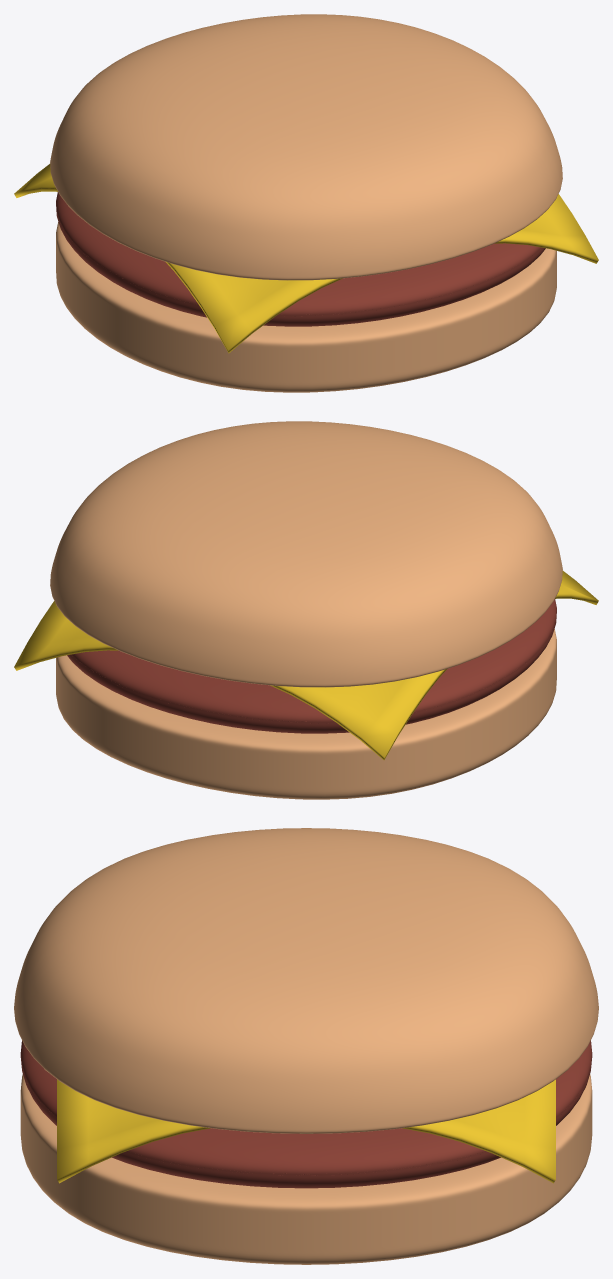
Rendered from hamburger.glb.
3 renders of one model, top to bottom at view 1: azimuth 30°, elevation 25°; view 2: azimuth 150°, elevation 25°; view 3: azimuth 270°, elevation 25°, orthographic. The views are drawn at different scales.
Parts seen in each view (by area): view 1: Cube.003, Cube.001, Cube.002, Plane; view 2: Cube.003, Cube.001, Cube.002, Plane; view 3: Cube.003, Cube.001, Cube.002, Plane.
Part boxes in pixels (x1,y1,x2,y2): Cube.003: (50, 14, 562, 280); Cube.001: (56, 222, 556, 392); Cube.002: (56, 192, 545, 326); Plane: (14, 163, 598, 353); Cube.003: (50, 421, 562, 687); Cube.001: (56, 629, 556, 799); Cube.002: (67, 599, 556, 733); Plane: (14, 570, 598, 760); Cube.003: (14, 828, 598, 1133); Cube.001: (20, 1074, 592, 1264); Cube.002: (20, 1040, 592, 1188); Plane: (57, 1079, 555, 1183).
Size of the model in its own units: 9.38 by 4.62 by 9.38.
